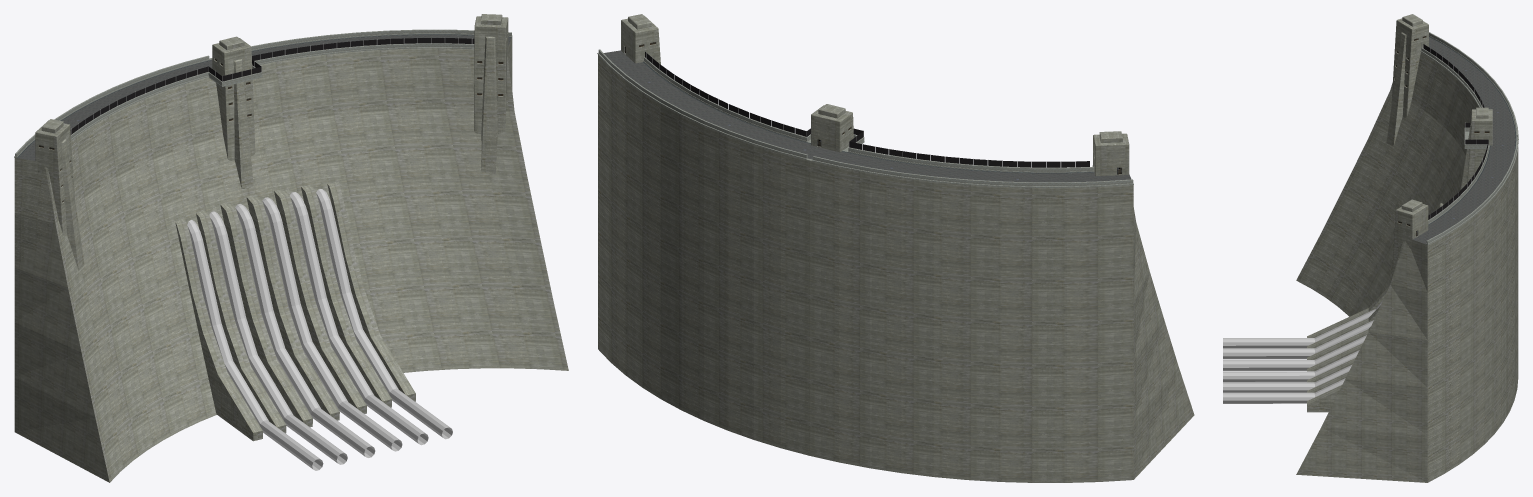
File: Building_2_LOD01.fbx
3 renders of one model, left to right at view 1: azimuth 30°, elevation 25°; view 2: azimuth 150°, elevation 25°; view 3: azimuth 270°, elevation 25°, orthographic. The views are drawn at different scales.
Parts seen in each view (by area): view 1: Building_2_LOD01; view 2: Building_2_LOD01; view 3: Building_2_LOD01.
Part boxes in pixels (x1,y1,x2,y2): Building_2_LOD01: [14, 14, 568, 482]; Building_2_LOD01: [597, 14, 1194, 482]; Building_2_LOD01: [1223, 14, 1518, 482].
Size of the model in its own units: 170 by 100 by 101.
